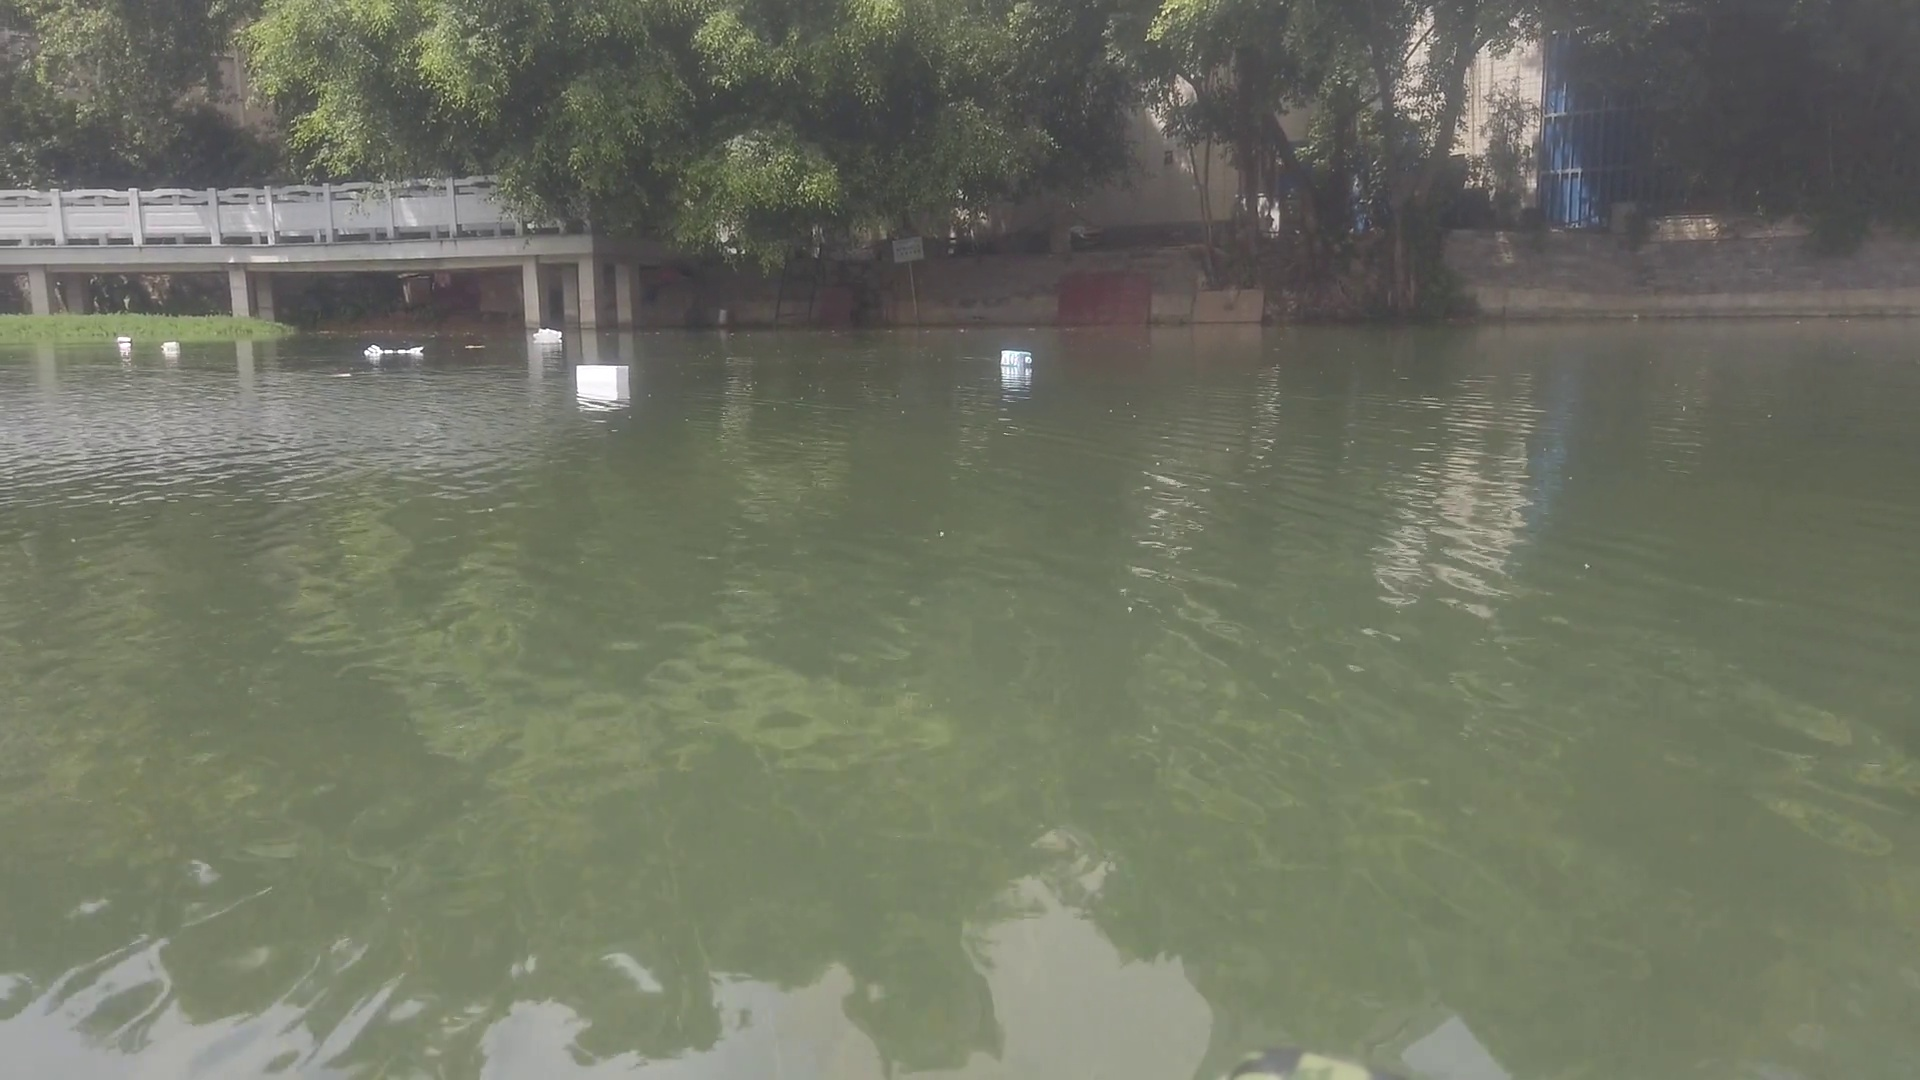bottle: (113, 334, 131, 344)
carton: (574, 363, 629, 386), (997, 349, 1035, 367), (162, 339, 179, 352)
paper: (363, 342, 425, 357), (324, 369, 353, 382), (465, 339, 488, 355)
plastic: (531, 324, 563, 344)
